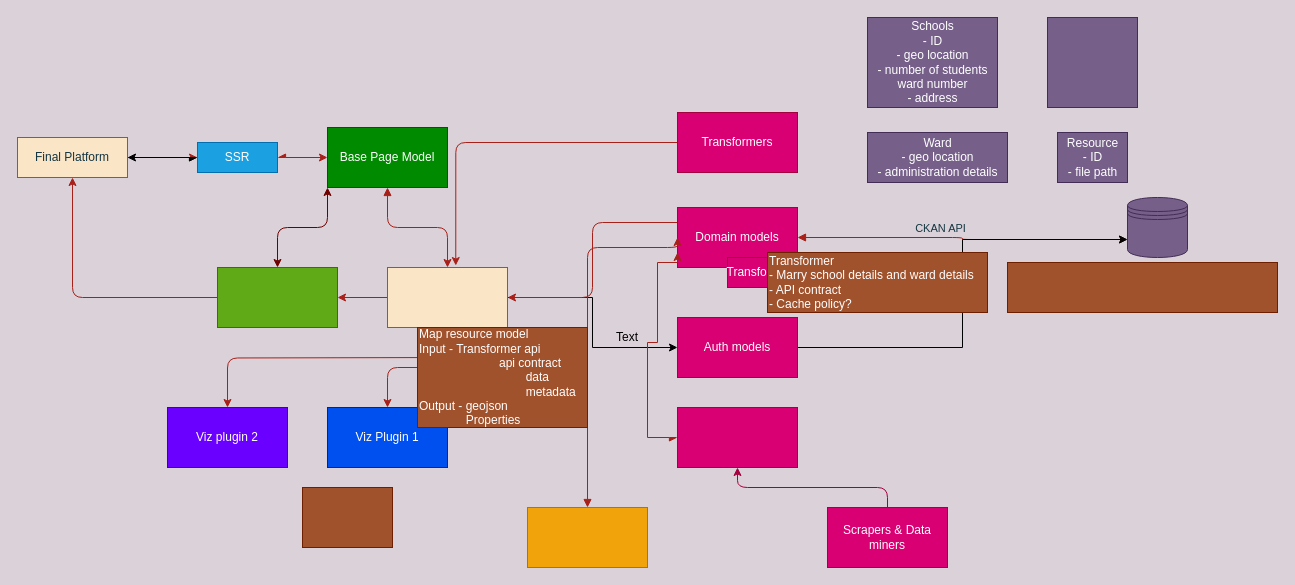
The diagram is 1295 pixels wide and 585 high, and some of its shapes have lost their labels. The shapes that lost their labels are listed below. From the top down, each one's centre as x and y in pixels, then its label:
the point at 1092,62: Dataset - ID - Files - Views ward number - address
the point at 277,297: Headless CMS
the point at 447,297: Resource Model
the point at 1142,287: Transformer - relay information from resource to api contract - Cache policy?
the point at 737,437: Middle ware
the point at 347,517: Map view Input - geojson - props Ouput - Map
the point at 587,537: Open API
